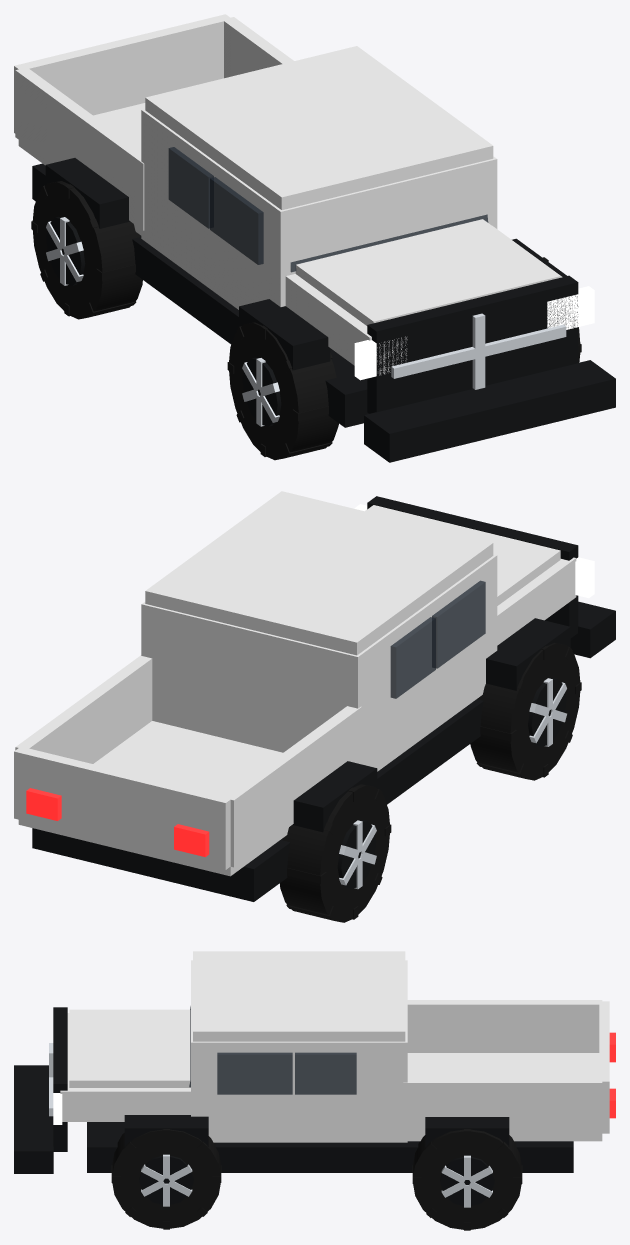
The model's file is headbutt-thunder-bison.glb.
The picture shows the model from 3 angles, top to bottom: view 1: azimuth 30°, elevation 25°; view 2: azimuth 150°, elevation 25°; view 3: azimuth 270°, elevation 25°; orthographic projection. The views are drawn at different scales.
Parts seen in each view (by area): view 1: chassis, wheel-back-left, wheel-front-left, glass; view 2: chassis, wheel-back-left, wheel-front-left; view 3: chassis, wheel-back-right, wheel-front-right.
Boxes of the visible parts, bbox=[...] form: chassis: bbox=[14, 14, 615, 462]; wheel-back-left: bbox=[31, 181, 142, 319]; wheel-front-left: bbox=[227, 322, 338, 460]; glass: bbox=[290, 214, 488, 272]; chassis: bbox=[14, 491, 615, 901]; wheel-back-left: bbox=[280, 784, 391, 922]; wheel-front-left: bbox=[470, 642, 581, 780]; chassis: bbox=[14, 951, 615, 1173]; wheel-back-right: bbox=[412, 1129, 522, 1230]; wheel-front-right: bbox=[111, 1129, 221, 1229].
Bounding box in the file's own units: 3.03 × 2.3 × 6.8.
